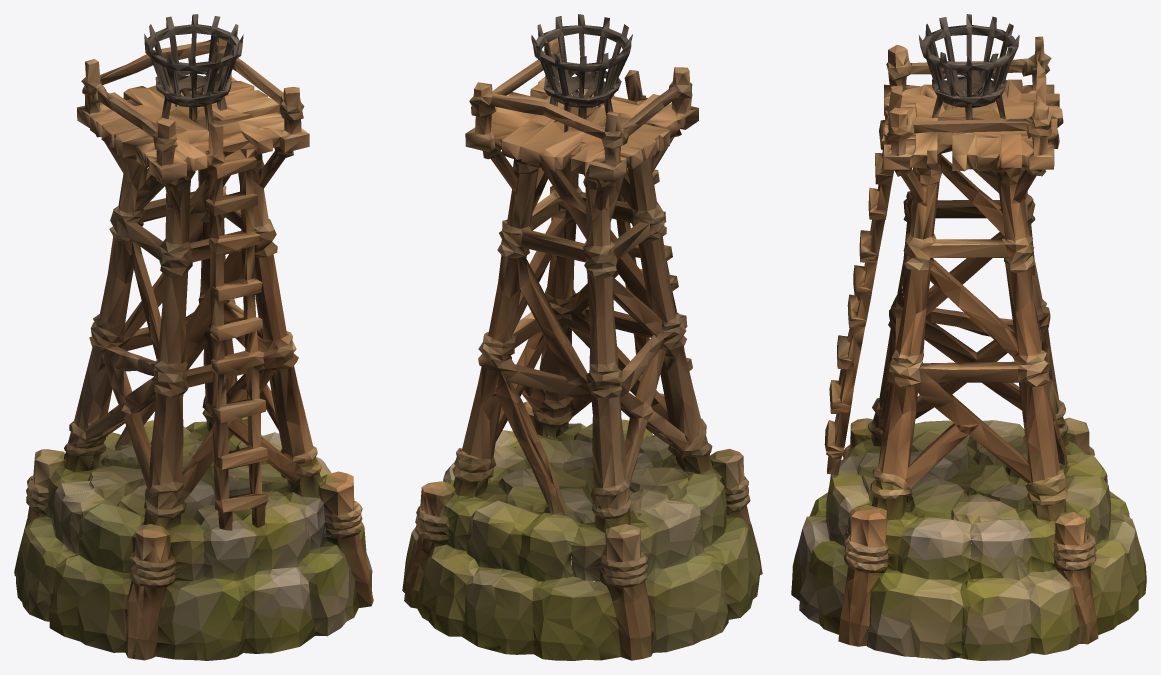
File: building-signalTower.glb
The picture shows the model from 3 angles, left to right: view 1: azimuth 30°, elevation 25°; view 2: azimuth 150°, elevation 25°; view 3: azimuth 270°, elevation 25°; orthographic projection.
Visible parts, largest first — view 1: 0_signalTower; view 2: 0_signalTower; view 3: 0_signalTower.
Part boxes in pixels (box(x1,y1,x2,y2)): 0_signalTower: box(14, 14, 373, 660); 0_signalTower: box(402, 14, 762, 660); 0_signalTower: box(791, 14, 1146, 660).
Size of the model in its own units: 3.81 by 6.58 by 3.84.
